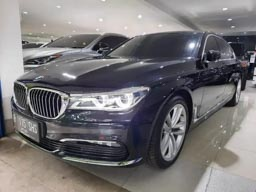plat: (12, 114, 40, 146)
